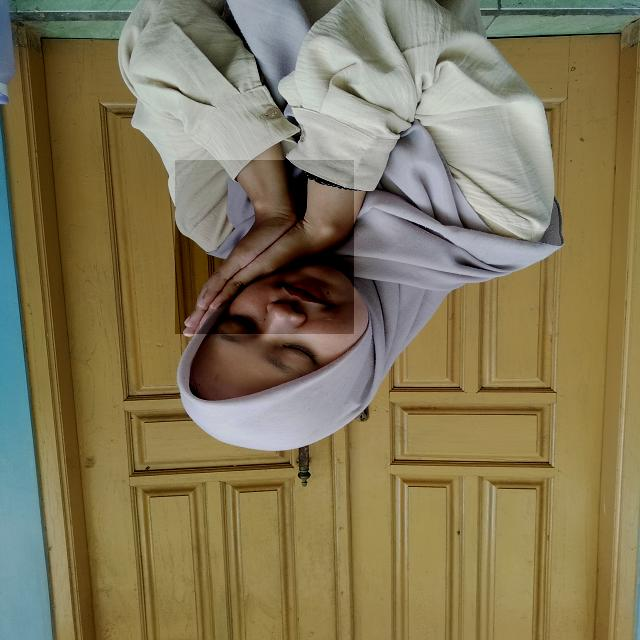tidur: (175, 160, 354, 334)
